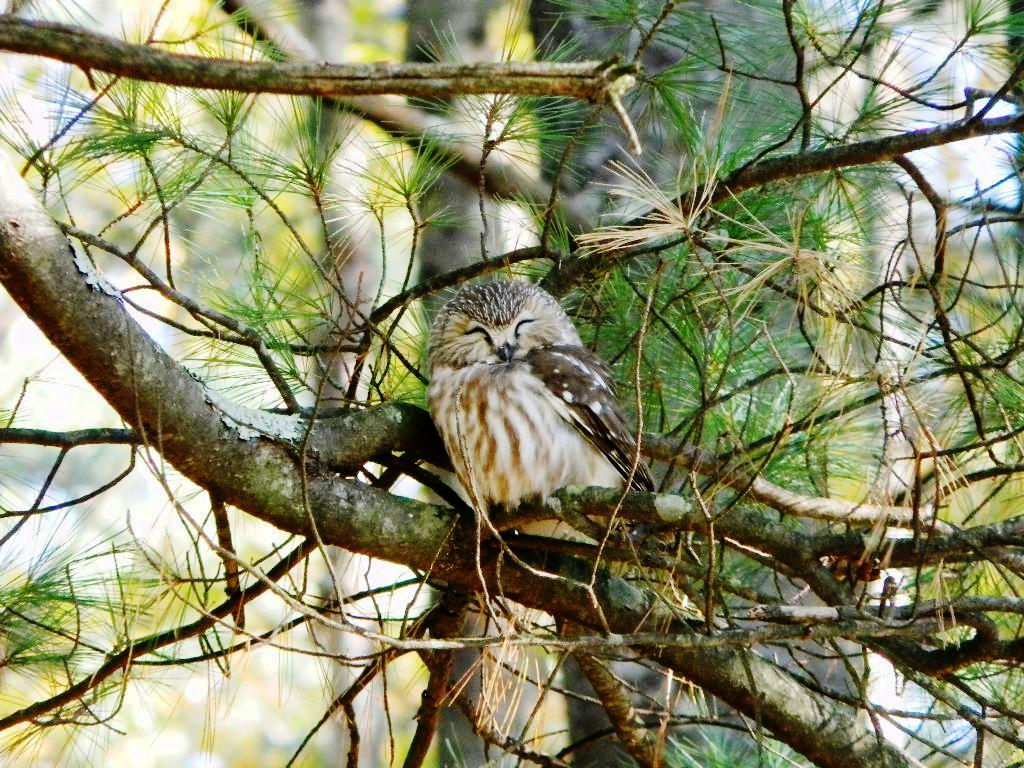Owl: (419, 269, 660, 544)
